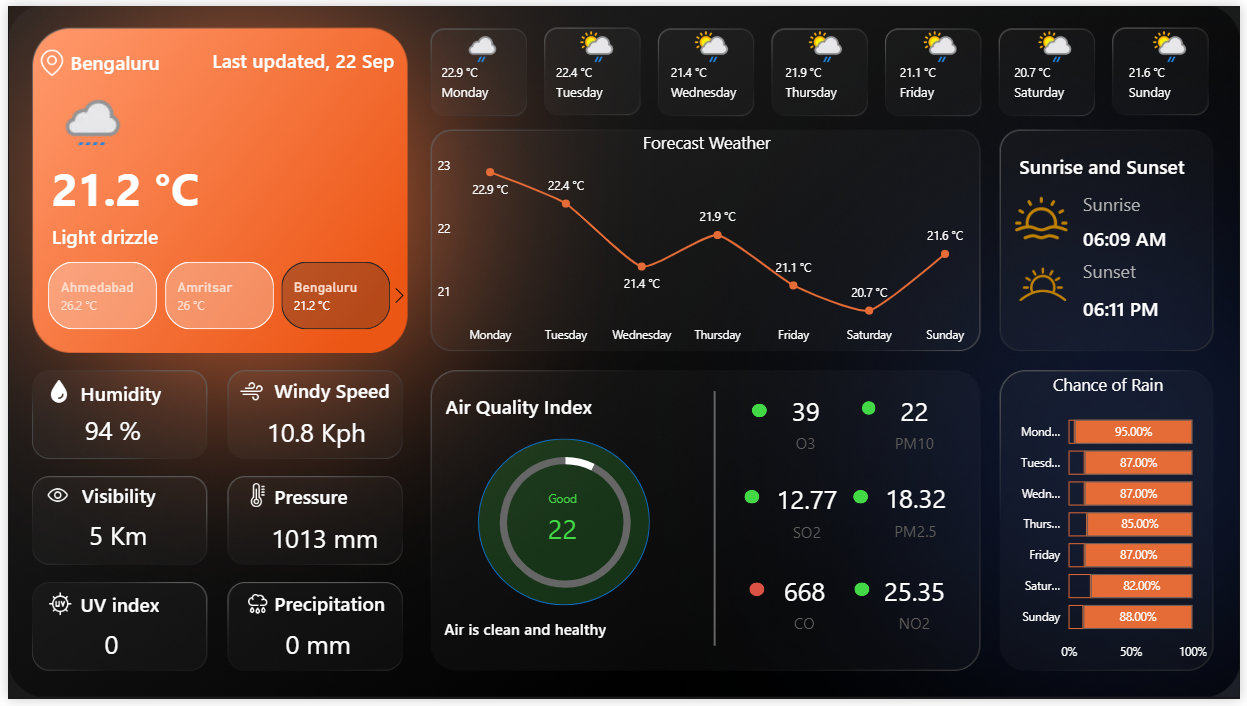

The dashboard page shown, as its layout file describes it:
{"tool":"powerbi","page":{"name":"Page 1","canvas":[1280,720],"ordinal":0},"visuals":[{"type":"shape","box":[488,449.7,178.5,173.3],"z":0},{"type":"advancedSlicerVisual","fields":{"Values":["Locations.location.name"]},"box":[16.4,261.2,406,80.6],"z":1000},{"type":"shape","box":[45.3,150.9,237.4,75.5],"z":2000},{"type":"shape","box":[45,215.6,265.8,45],"z":3000},{"type":"shape","box":[64.5,35.7,142.7,45.3],"z":4000},{"type":"shape","box":[181.1,35.7,220.9,42.5],"z":5000},{"type":"image","box":[27.4,38.4,37,39.8],"z":6000},{"type":"cardVisual","fields":{"Data":["Min(Current.current.condition.icon)"]},"box":[27.4,60.4,97.4,90.6],"z":7000},{"type":"image","box":[28.8,382.8,48,34.3],"z":8000},{"type":"shape","box":[75.5,380.1,131.7,42.5],"z":9000},{"type":"image","box":[229.2,382.8,48,34.3],"z":10000},{"type":"shape","box":[277.2,380.1,124.9,37],"z":11000},{"type":"image","box":[27.4,491.3,48,34.3],"z":12000},{"type":"shape","box":[76.8,487.1,131.7,42.5],"z":13000},{"type":"image","box":[234.6,491.3,48,34.3],"z":14000},{"type":"shape","box":[277.2,488.5,124.9,41.2],"z":15000},{"type":"image","box":[30.2,603.8,48,34.3],"z":16000},{"type":"shape","box":[75.5,599.7,131.7,42.5],"z":17000},{"type":"image","box":[234.6,603.8,48,34.3],"z":18000},{"type":"shape","box":[277.2,598.3,131.7,42.5],"z":19000},{"type":"card","fields":{"Values":["_Measure.Humidity"]},"box":[65.3,417.3,88,50.7],"z":20000},{"type":"card","fields":{"Values":["_Measure.Wind_Speed"]},"box":[264.2,417.9,113.4,50.7],"z":21000},{"type":"card","fields":{"Values":["_Measure.Precipitation"]},"box":[276.4,638.8,91.3,50.3],"z":22000},{"type":"card","fields":{"Values":["Sum(Current.current.uv)"]},"box":[64,638.7,88,50.7],"z":23000},{"type":"card","fields":{"Values":["_Measure.Pressure"]},"box":[264.5,529,128.3,51.6],"z":24000},{"type":"card","fields":{"Values":["_Measure.Visibility"]},"box":[64.8,525.1,99.2,51.6],"z":25000},{"type":"advancedSlicerVisual","fields":{"Values":["Forcast_Day.Day_Name"]},"box":[432.8,14.9,837.3,100],"z":26000},{"type":"lineChart","title":"Forecast Weather","fields":{"Y":["Sum(Forcast_Day.forecast.forecastday.day.avgtemp_c)"],"Category":["Forcast_Day.Day_Name"]},"box":[441.8,129.9,568.7,229.9],"z":27000},{"type":"shape","box":[1050.7,144.8,186.6,43.3],"z":28000},{"type":"shape","box":[1116.4,204.5,111.9,74.6],"z":29000},{"type":"shape","box":[1116.4,276.1,111.9,74.6],"z":30000},{"type":"shape","box":[1116.4,183.6,131.3,43.3],"z":31000},{"type":"shape","box":[1116.4,253.7,131.3,43.3],"z":32000},{"type":"image","box":[1025.4,252.2,98.5,74.6],"z":33000},{"type":"image","box":[1031.3,188.1,85.1,64.2],"z":34000},{"type":"hundredPercentStackedBarChart","title":"Chance of Rain","fields":{"Y":["_Measure.Left_Value_Rain","Sum(Forcast_Day.forecast.forecastday.day.daily_chance_of_rain)"],"Category":["Forcast_Day.Day_Name"]},"box":[1035.6,382.2,215.6,308.2],"z":35000},{"type":"shape","box":[454,395.1,186.5,42.9],"z":36000},{"type":"card","fields":{"Values":["Sum(Current.current.air_quality.pm10)"]},"box":[884.8,395.5,115.1,72.7],"z":37000},{"type":"card","fields":{"Values":["Sum(Current.current.air_quality.co)"]},"box":[769.7,583.3,115.1,72.7],"z":38000},{"type":"card","fields":{"Values":["Sum(Current.current.air_quality.pm2_5)"]},"box":[886.1,486.7,115.1,72.7],"z":39000},{"type":"card","fields":{"Values":["Sum(Current.current.air_quality.so2)"]},"box":[772.4,488,115.1,72.7],"z":40000},{"type":"card","fields":{"Values":["Sum(Current.current.air_quality.o3)"]},"box":[771.1,395.5,115.1,72.7],"z":41000},{"type":"card","fields":{"Values":["Sum(Current.current.air_quality.no2)"]},"box":[884.8,583.3,115.1,72.7],"z":42000},{"type":"shape","box":[772.4,412.6,15.9,14.5],"z":43000},{"type":"shape","box":[887.5,410,14.5,14.5],"z":44000},{"type":"shape","box":[879.5,599.1,15.9,14.5],"z":45000},{"type":"shape","box":[769.7,599.1,15.9,14.5],"z":46000},{"type":"shape","box":[878.2,502.6,15.9,14.5],"z":47000},{"type":"shape","box":[764.5,502.6,15.9,14.5],"z":48000},{"type":"shape","box":[640.1,399.4,187.8,264.5],"z":49000},{"type":"card","fields":{"Values":["Sum(Current.current.air_quality.pm10)"]},"box":[529,503.9,95.2,64.8],"z":50000},{"type":"donutChart","fields":{"Y":["Sum(Current.current.air_quality.pm10)","_Measure.Left_value_PM10"]},"box":[474.8,447,207.6,179.9],"z":51000},{"type":"shape","box":[453.6,626.9,263.2,39.7],"z":52000}]}

Visuals, with their boxes in screenshot pixels (x1, y1, x2, y2), scaled from the page's 1280x720 canvas onto the 1247x706 screenshot:
shape: l=475, t=441, r=649, b=611
advancedSlicerVisual - Locations.location.name: l=16, t=256, r=412, b=335
shape: l=44, t=148, r=275, b=222
shape: l=44, t=211, r=303, b=256
shape: l=63, t=35, r=202, b=79
shape: l=176, t=35, r=392, b=77
image: l=27, t=38, r=63, b=77
cardVisual - Min(Current.current.condition.icon): l=27, t=59, r=122, b=148
image: l=28, t=375, r=75, b=409
shape: l=74, t=373, r=202, b=414
image: l=223, t=375, r=270, b=409
shape: l=270, t=373, r=392, b=409
image: l=27, t=482, r=73, b=515
shape: l=75, t=478, r=203, b=519
image: l=229, t=482, r=275, b=515
shape: l=270, t=479, r=392, b=519
image: l=29, t=592, r=76, b=626
shape: l=74, t=588, r=202, b=630
image: l=229, t=592, r=275, b=626
shape: l=270, t=587, r=398, b=628
card - _Measure.Humidity: l=64, t=409, r=149, b=459
card - _Measure.Wind_Speed: l=257, t=410, r=368, b=459
card - _Measure.Precipitation: l=269, t=626, r=358, b=676
card - Sum(Current.current.uv): l=62, t=626, r=148, b=676
card - _Measure.Pressure: l=258, t=519, r=383, b=569
card - _Measure.Visibility: l=63, t=515, r=160, b=565
advancedSlicerVisual - Forcast_Day.Day_Name: l=422, t=15, r=1237, b=113
"Forecast Weather" lineChart: l=430, t=127, r=984, b=353
shape: l=1024, t=142, r=1205, b=184
shape: l=1088, t=201, r=1197, b=274
shape: l=1088, t=271, r=1197, b=344
shape: l=1088, t=180, r=1216, b=222
shape: l=1088, t=249, r=1216, b=291
image: l=999, t=247, r=1095, b=320
image: l=1005, t=184, r=1088, b=247
"Chance of Rain" hundredPercentStackedBarChart: l=1009, t=375, r=1219, b=677
shape: l=442, t=387, r=624, b=429
card - Sum(Current.current.air_quality.pm10): l=862, t=388, r=974, b=459
card - Sum(Current.current.air_quality.co): l=750, t=572, r=862, b=643
card - Sum(Current.current.air_quality.pm2_5): l=863, t=477, r=975, b=549
card - Sum(Current.current.air_quality.so2): l=752, t=479, r=865, b=550
card - Sum(Current.current.air_quality.o3): l=751, t=388, r=863, b=459
card - Sum(Current.current.air_quality.no2): l=862, t=572, r=974, b=643
shape: l=752, t=405, r=768, b=419
shape: l=865, t=402, r=879, b=416
shape: l=857, t=587, r=872, b=602
shape: l=750, t=587, r=765, b=602
shape: l=856, t=493, r=871, b=507
shape: l=745, t=493, r=760, b=507
shape: l=624, t=392, r=807, b=651
card - Sum(Current.current.air_quality.pm10): l=515, t=494, r=608, b=558
donutChart - Sum(Current.current.air_quality.pm10) x _Measure.Left_value_PM10: l=463, t=438, r=665, b=615
shape: l=442, t=615, r=698, b=654
